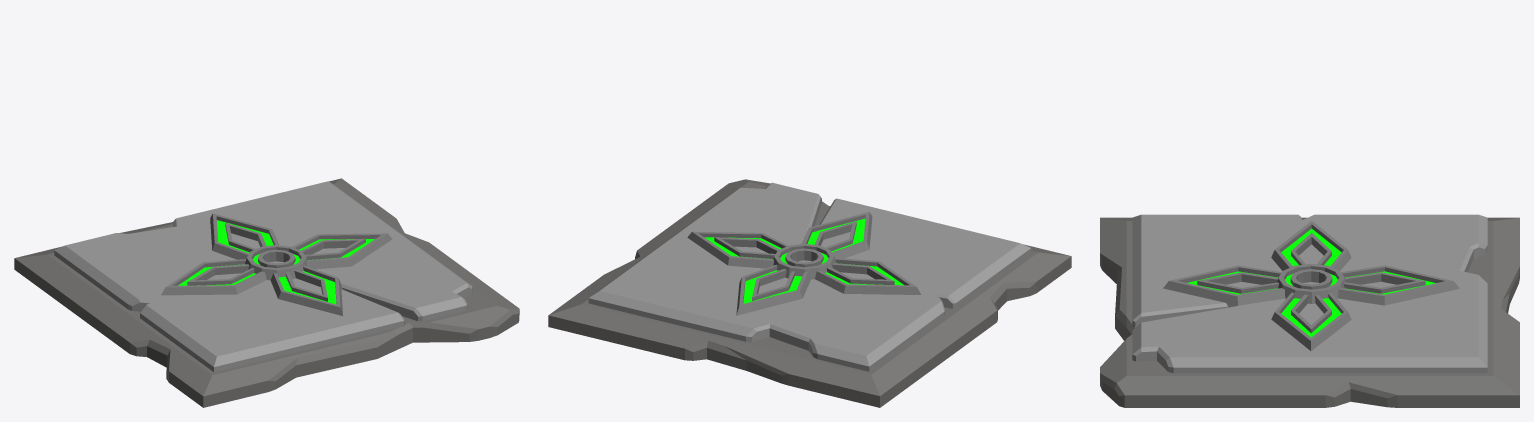
Rendered from plate_3.fbx.
3 views of the same model, side by side, from view 1: azimuth 30°, elevation 25°; view 2: azimuth 150°, elevation 25°; view 3: azimuth 270°, elevation 25° (orthographic). The views are drawn at different scales.
Parts seen in each view (by area): view 1: plate_3, plate_base_3, Цилиндр.002; view 2: plate_3, plate_base_3, Цилиндр.002; view 3: plate_3, plate_base_3, Цилиндр.002.
Part boxes in pixels (x1=…): plate_3: x1=54, y1=181, x2=472, y2=372; plate_base_3: x1=14, y1=178, x2=519, y2=407; Цилиндр.002: x1=161, y1=213, x2=392, y2=315; plate_3: x1=588, y1=182, x2=1031, y2=371; plate_base_3: x1=548, y1=179, x2=1071, y2=407; Цилиндр.002: x1=687, y1=212, x2=921, y2=315; plate_3: x1=1132, y1=214, x2=1487, y2=373; plate_base_3: x1=1100, y1=217, x2=1519, y2=407; Цилиндр.002: x1=1163, y1=221, x2=1459, y2=350.
Bounding box in the file's own units: 1.3 × 1.05 × 1.3.
